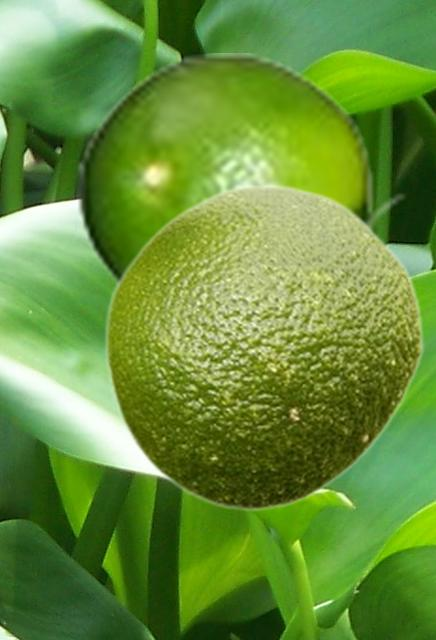calamansi: (103, 183, 423, 512), (75, 53, 408, 288)
